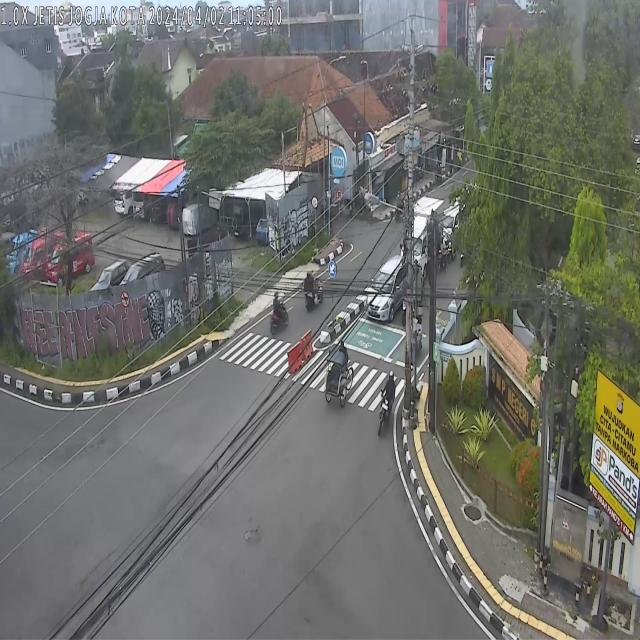car: (366, 256, 408, 321), (441, 207, 460, 238)
motorcycle: (377, 369, 396, 436), (304, 269, 323, 312), (270, 290, 288, 335), (437, 233, 448, 275), (446, 226, 456, 264)
truck: (401, 196, 444, 279)
